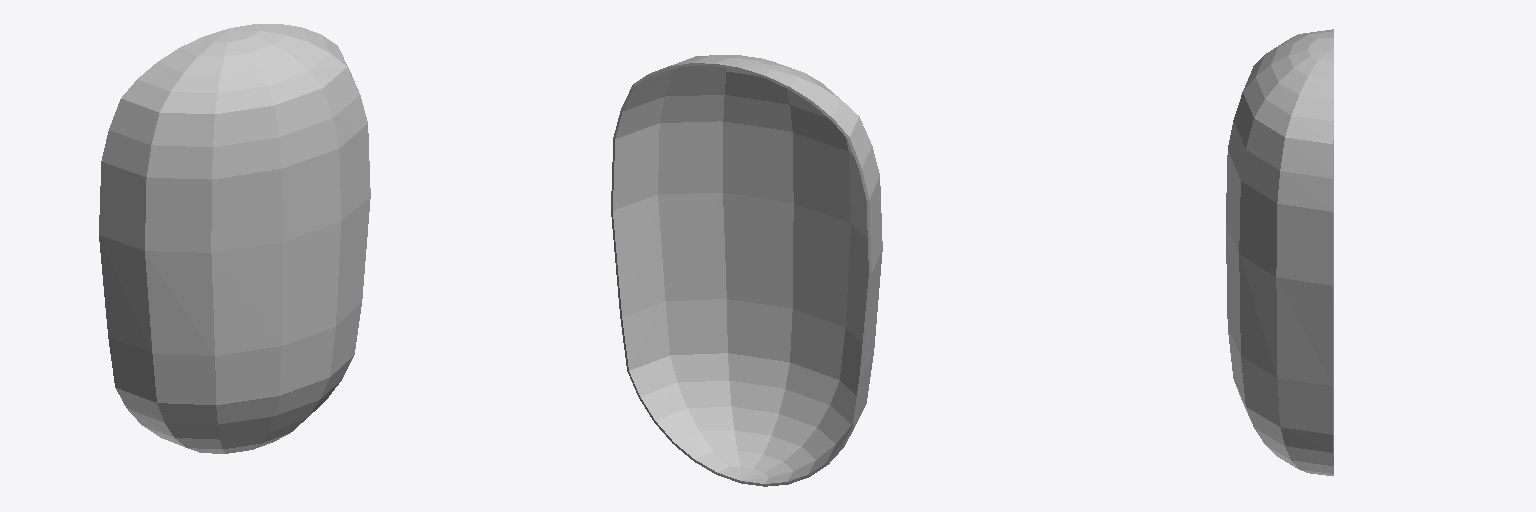
The model's file is chihiro.obj.
3 views of the same model, side by side, from view 1: azimuth 30°, elevation 25°; view 2: azimuth 150°, elevation 25°; view 3: azimuth 270°, elevation 25° (orthographic).
Parts seen in each view (by area): view 1: chihiro_Sphere; view 2: chihiro_Sphere; view 3: chihiro_Sphere.
Boxes of the visible parts, x1=… form: chihiro_Sphere: x1=99, y1=24, x2=370, y2=453; chihiro_Sphere: x1=611, y1=55, x2=882, y2=486; chihiro_Sphere: x1=1226, y1=29, x2=1333, y2=475.
Size of the model in its own units: 2.04 by 3.1 by 0.7338.